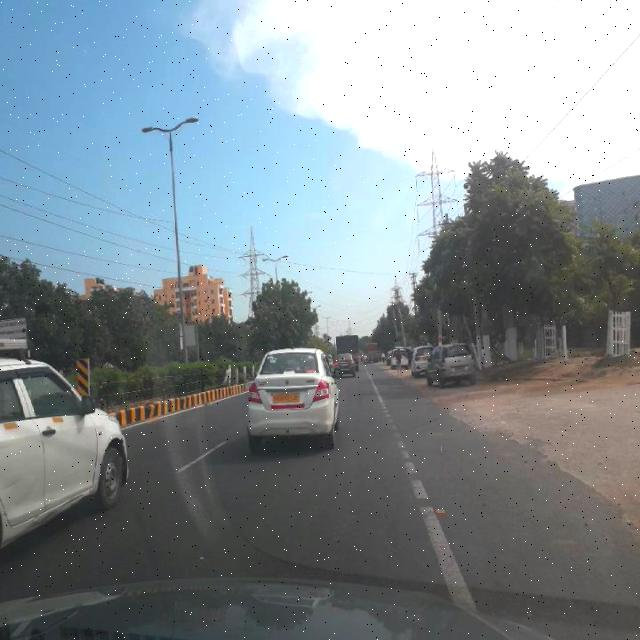D20: (138, 445, 468, 593)
